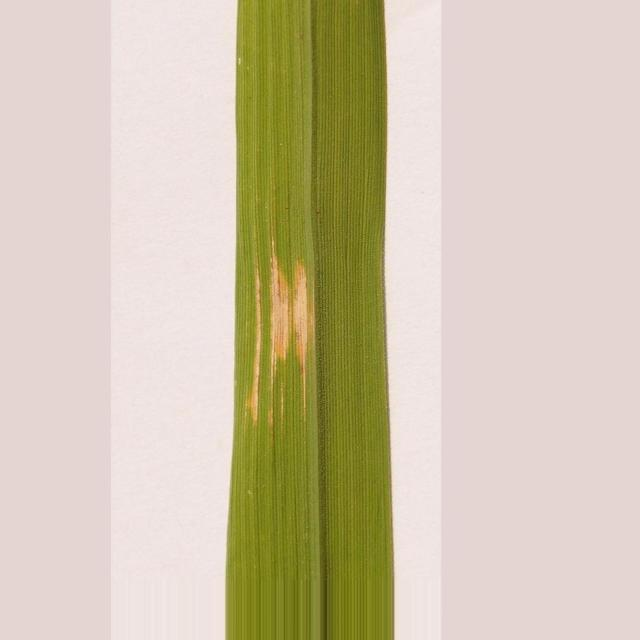Bacterial_Leaf_Blight: (268, 255, 312, 379), (249, 270, 266, 424)
